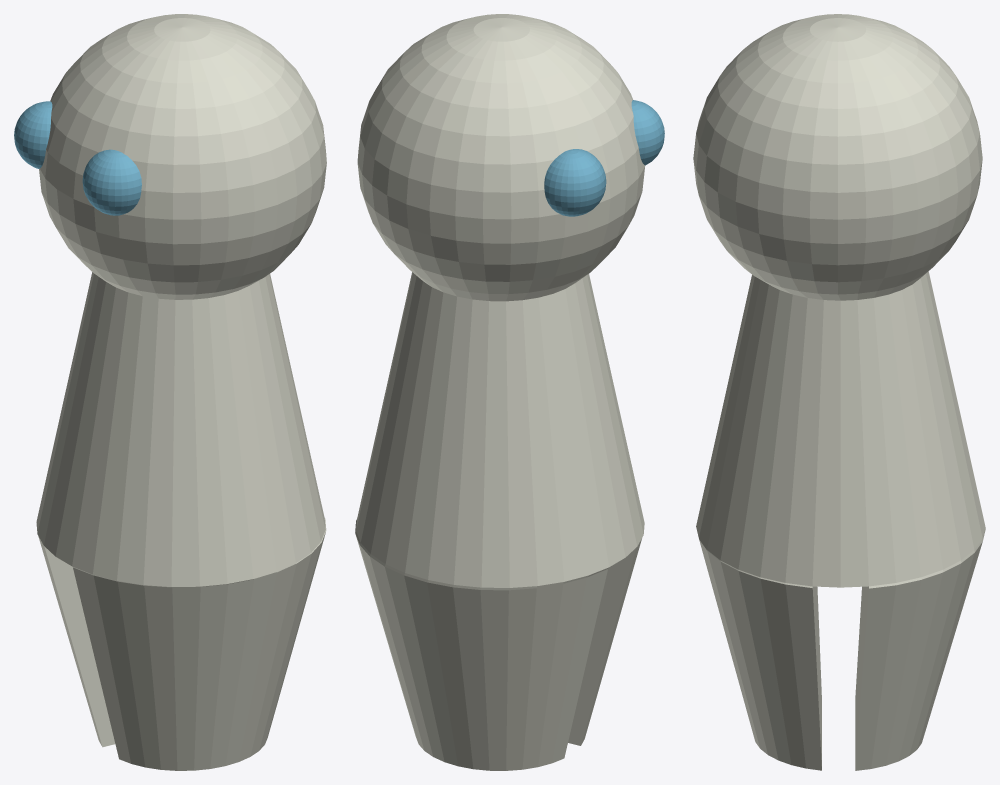
Rendered from Hoomanbeta (1).fbx.
3 views of the same model, side by side, from view 1: azimuth 30°, elevation 25°; view 2: azimuth 150°, elevation 25°; view 3: azimuth 270°, elevation 25° (orthographic).
Visible parts, largest first — view 1: Sphere, Sphere.001, Sphere.002; view 2: Sphere, Sphere.002, Sphere.001; view 3: Sphere.
Part boxes in pixels (x1=…): Sphere: x1=36, y1=14, x2=326, y2=770; Sphere.001: x1=82, y1=149, x2=141, y2=215; Sphere.002: x1=14, y1=101, x2=52, y2=168; Sphere: x1=355, y1=14, x2=645, y2=770; Sphere.002: x1=544, y1=149, x2=606, y2=216; Sphere.001: x1=631, y1=100, x2=664, y2=165; Sphere: x1=693, y1=14, x2=985, y2=770.
Bounding box in the file's own units: 205 × 540 × 202.
